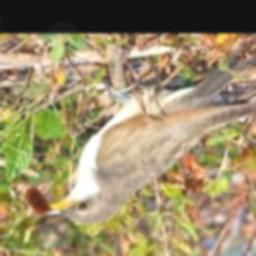Cuckoo: (45, 33, 256, 223)
